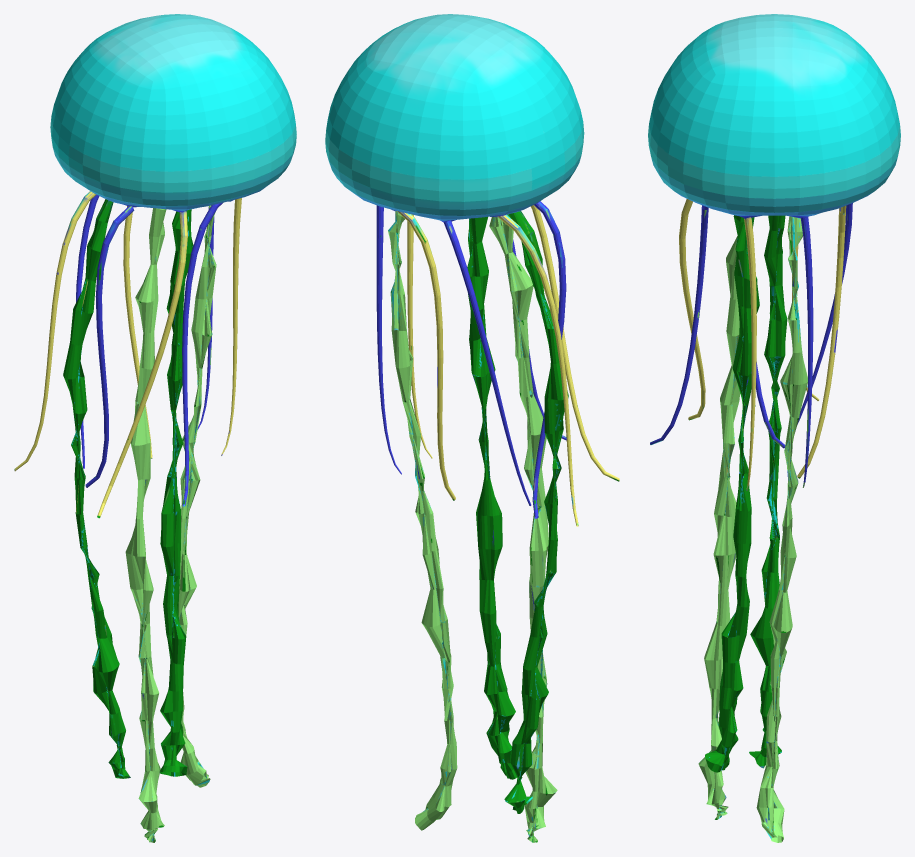
File: jellyfiishBlue.gltf
3 renders of one model, left to right at view 1: azimuth 30°, elevation 25°; view 2: azimuth 150°, elevation 25°; view 3: azimuth 270°, elevation 25°, orthographic. The views are drawn at different scales.
Visible parts, largest first — view 1: BezierCurve.003; view 2: BezierCurve.003; view 3: BezierCurve.003.
Part boxes in pixels (box(x1,y1,x2,y2)): BezierCurve.003: box(14, 14, 296, 842); BezierCurve.003: box(325, 14, 619, 842); BezierCurve.003: box(648, 14, 900, 842).
Size of the model in its own units: 3.01 by 9.22 by 2.59.
1 material, 1 textured.
